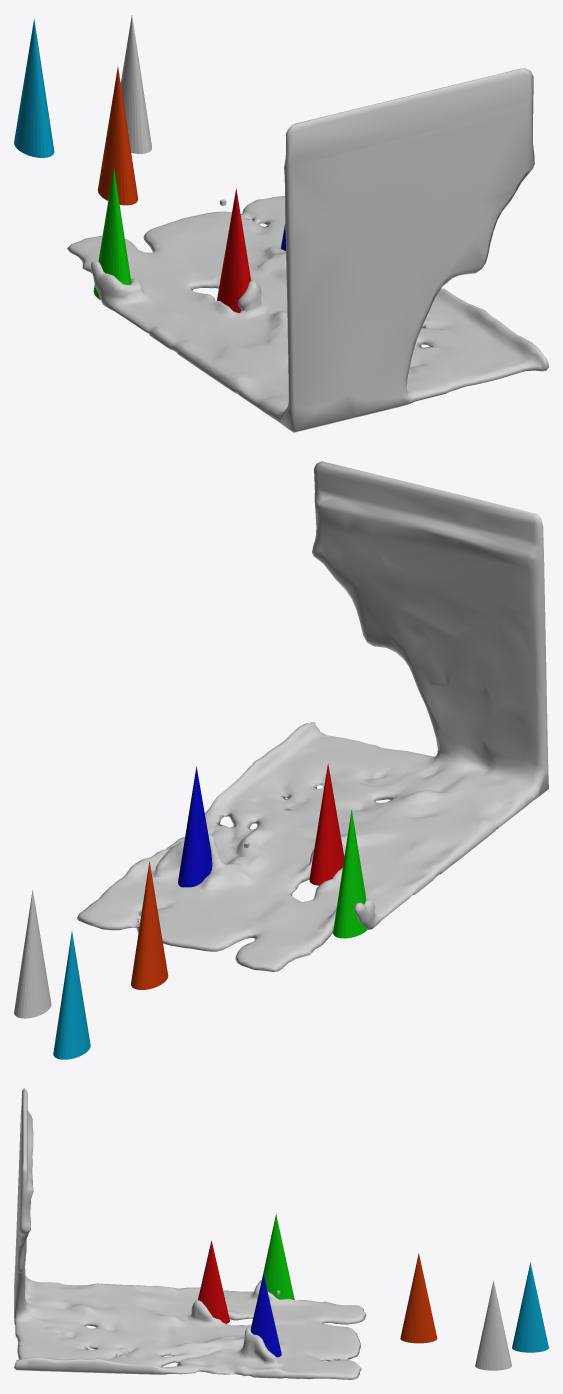
3 renders of one model, top to bottom at view 1: azimuth 30°, elevation 25°; view 2: azimuth 150°, elevation 25°; view 3: azimuth 270°, elevation 25°, orthographic. The views are drawn at different scales.
Parts seen in each view (by area): view 1: Liquid_Domain, 円錐.005, 円錐.004, 円錐, 円錐.001, 円錐.003; view 2: Liquid_Domain, 円錐.005, 円錐, 円錐.004, 円錐.002, 円錐.003, 円錐.001; view 3: Liquid_Domain, 円錐, 円錐.004, 円錐.005, 円錐.003, 円錐.001, 円錐.002.
Boxes of the visible parts, left/top/right/bottom form: Liquid_Domain: left=67, top=68, right=548, bottom=432; 円錐.005: left=14, top=19, right=54, bottom=157; 円錐.004: left=98, top=67, right=138, bottom=205; 円錐: left=120, top=15, right=151, bottom=153; 円錐.001: left=217, top=188, right=250, bottom=312; 円錐.003: left=93, top=167, right=131, bottom=299; Liquid_Domain: left=77, top=461, right=548, bottom=971; 円錐.005: left=53, top=931, right=90, bottom=1059; 円錐: left=14, top=890, right=51, bottom=1018; 円錐.004: left=131, top=861, right=168, bottom=989; 円錐.002: left=178, top=766, right=212, bottom=887; 円錐.003: left=333, top=810, right=367, bottom=938; 円錐.001: left=309, top=763, right=344, bottom=885; Liquid_Domain: left=14, top=1088, right=366, bottom=1379; 円錐: left=475, top=1280, right=511, bottom=1370; 円錐.004: left=400, top=1253, right=437, bottom=1343; 円錐.005: left=512, top=1262, right=548, bottom=1352; 円錐.003: left=262, top=1214, right=294, bottom=1299; 円錐.001: left=198, top=1240, right=229, bottom=1323; 円錐.002: left=250, top=1274, right=281, bottom=1357.
Size of the model in its own units: 129 by 158 by 347.
